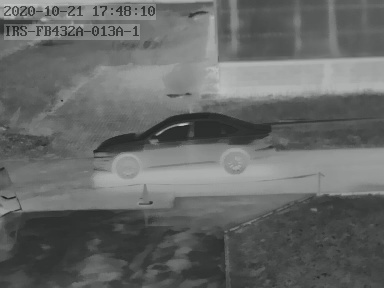vehicle: (95, 113, 276, 177)
